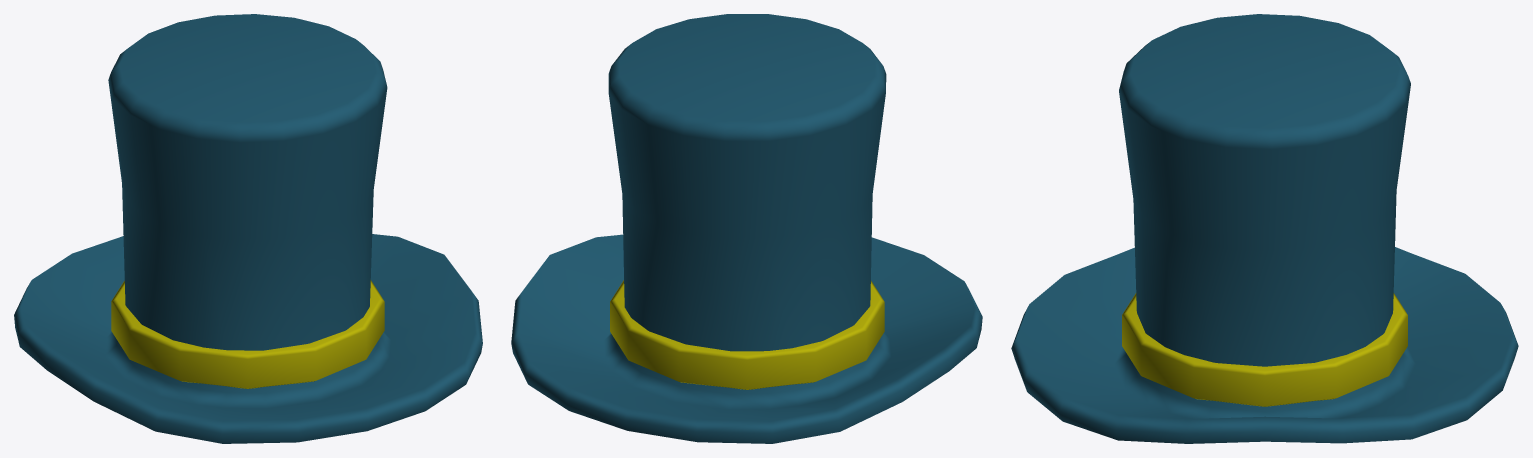
Rendered from Hat_Blue.fbx.
The picture shows the model from 3 angles, left to right: view 1: azimuth 30°, elevation 25°; view 2: azimuth 150°, elevation 25°; view 3: azimuth 270°, elevation 25°; orthographic projection. The views are drawn at different scales.
Visible parts, largest first — view 1: Hat_Blue; view 2: Hat_Blue; view 3: Hat_Blue.
Part boxes in pixels (x1,y1,x2,y2): Hat_Blue: (14, 14, 482, 443); Hat_Blue: (511, 14, 982, 443); Hat_Blue: (1011, 14, 1518, 443).
Bounding box in the file's own units: 2.26 × 1.52 × 2.34.
